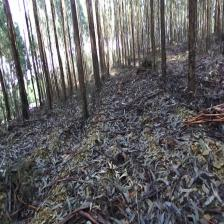trunk: (6, 15, 30, 117), (71, 13, 88, 119), (36, 26, 52, 108), (187, 6, 197, 94), (54, 32, 66, 97), (90, 29, 100, 89), (160, 3, 166, 78), (150, 7, 155, 69)
